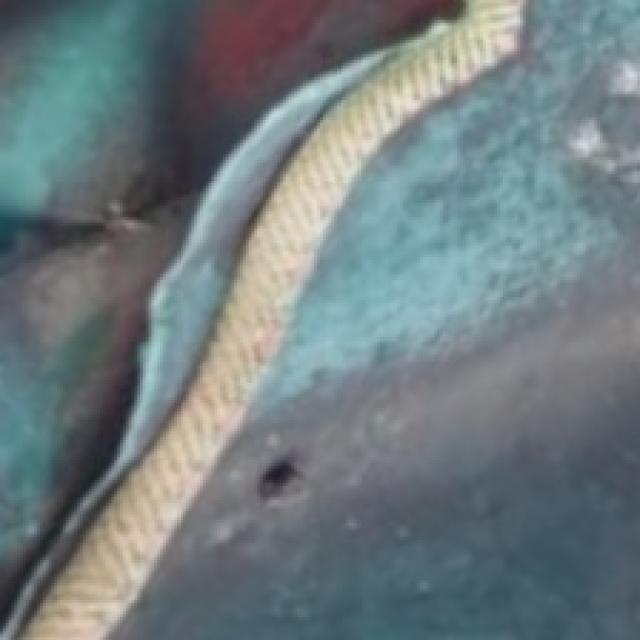paradise tree snake: (111, 3, 637, 637), (0, 0, 523, 637)
